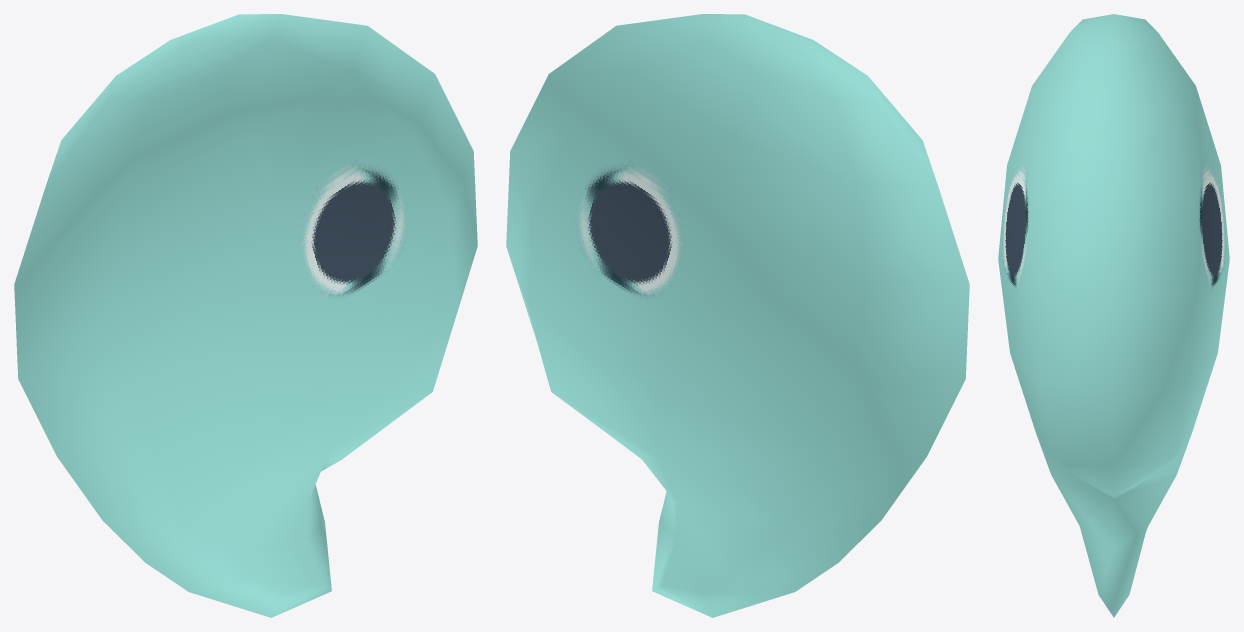
File: ps2_save-icons_izayoirenka.glb
3 renders of one model, left to right at view 1: azimuth 30°, elevation 25°; view 2: azimuth 150°, elevation 25°; view 3: azimuth 270°, elevation 25°, orthographic. The views are drawn at different scales.
Visible parts, largest first — view 1: izayoi.ico; view 2: izayoi.ico; view 3: izayoi.ico.
Part boxes in pixels (x1,y1,x2,y2): izayoi.ico: [14, 14, 477, 617]; izayoi.ico: [506, 14, 969, 617]; izayoi.ico: [998, 14, 1229, 617].
Bounding box in the file's own units: 2.47 × 3.06 × 1.16.
1 material, 1 textured.
